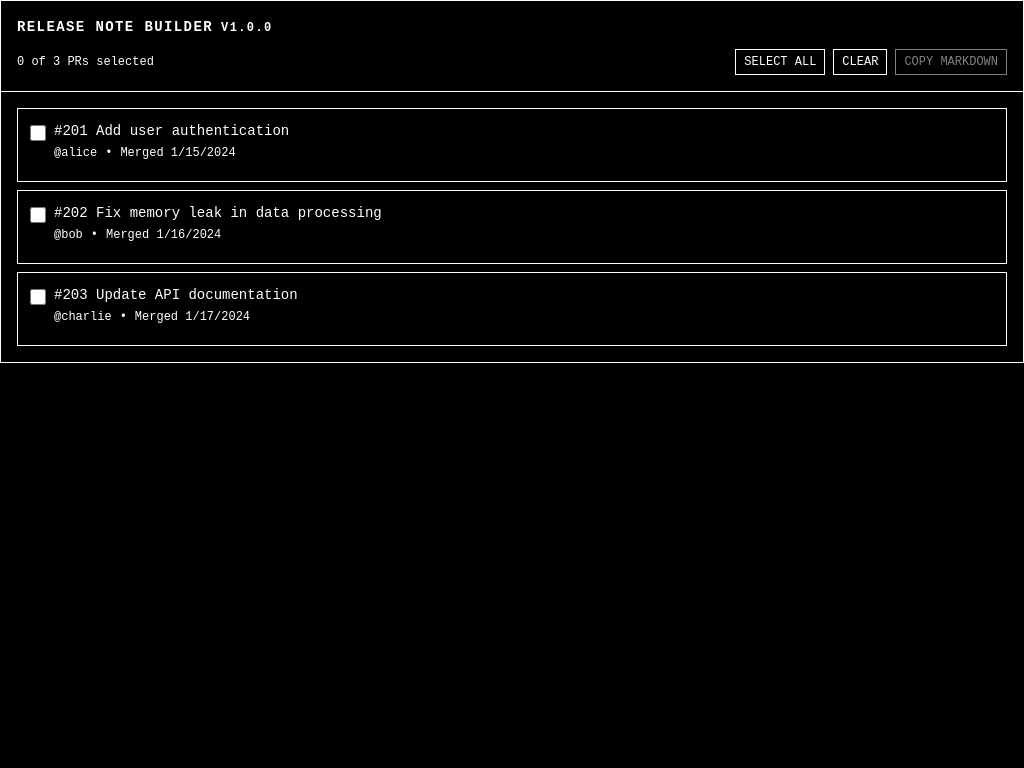
Scenario: ReleaseNoteBuilder › allows selecting individual PRs
Click the checkbox next to "201" at (38, 133), box left=30, top=125, right=46, bottom=141
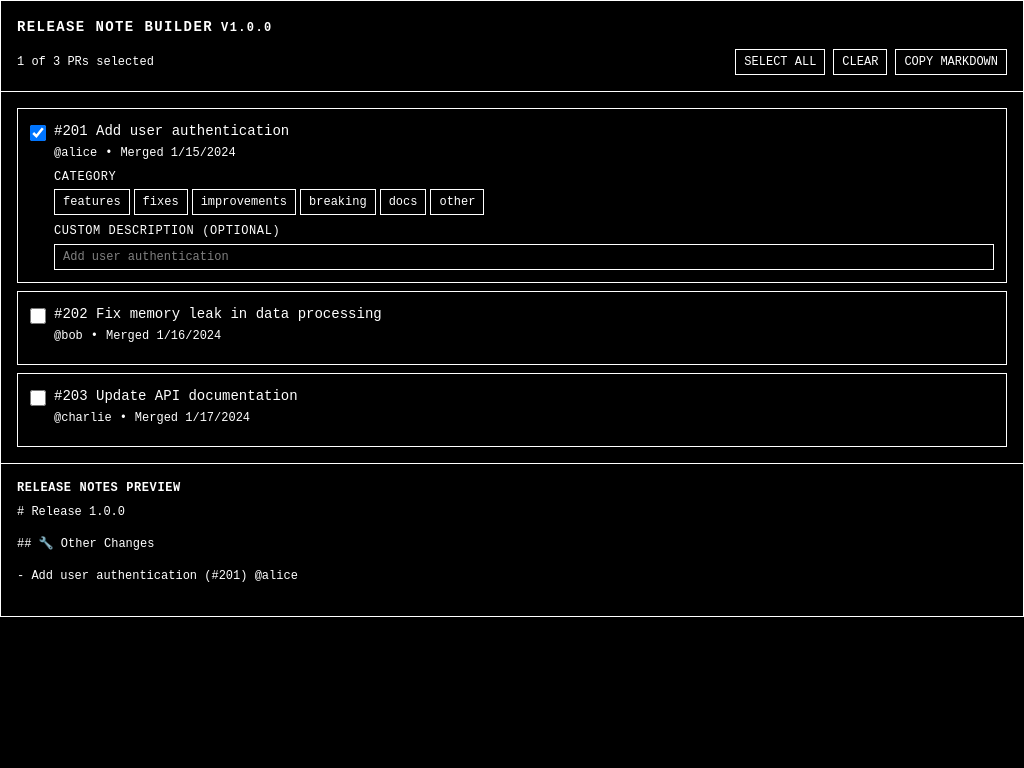
Result: the text "1 of 3 PRs selected" is shown at left=17, top=54, right=154, bottom=70
